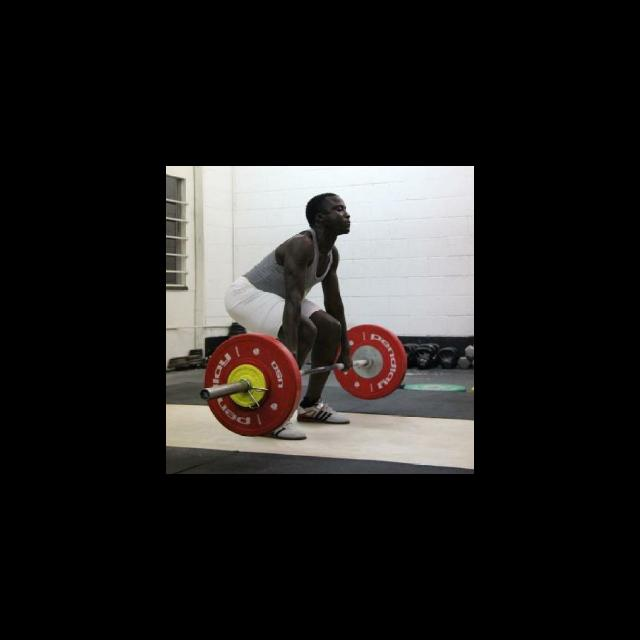barbell: (195, 333, 298, 438)
